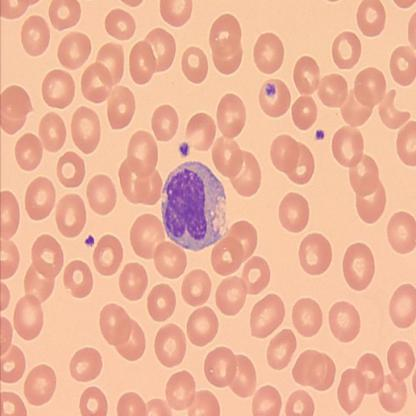Monocyte: (160, 159, 227, 252)
